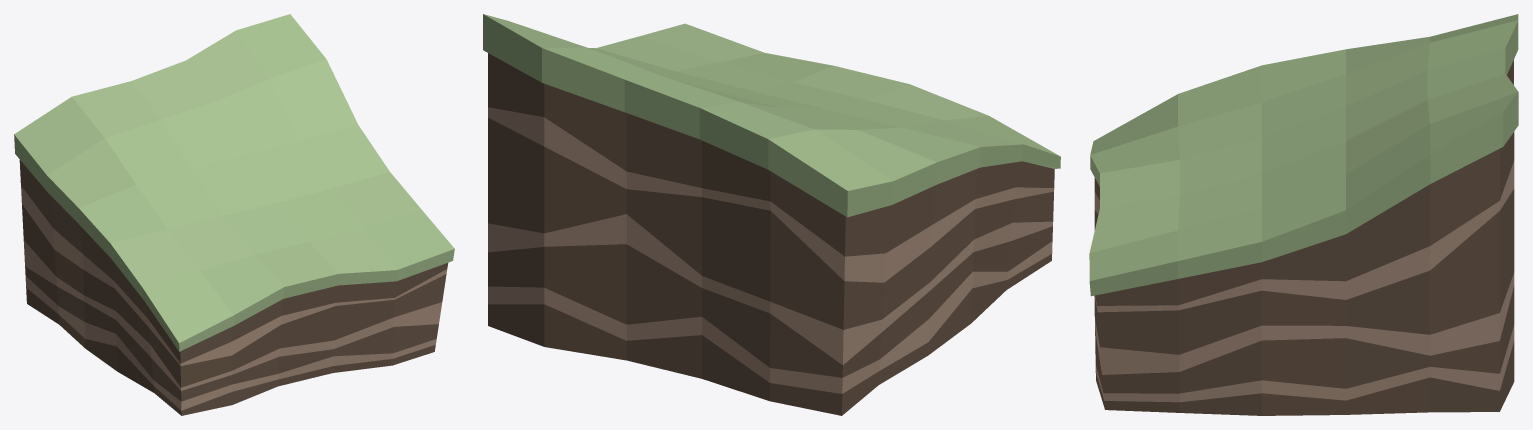
File: Isl_1_Base.fbx
3 renders of one model, left to right at view 1: azimuth 30°, elevation 25°; view 2: azimuth 150°, elevation 25°; view 3: azimuth 270°, elevation 25°, orthographic. The views are drawn at different scales.
Visible parts, largest first — view 1: Isl_1_Base; view 2: Isl_1_Base; view 3: Isl_1_Base.
Boxes of the visible parts, box(x1,y1,x2,y2) form: Isl_1_Base: box(14, 14, 454, 415); Isl_1_Base: box(483, 14, 1060, 415); Isl_1_Base: box(1089, 14, 1518, 415).
Bounding box in the file's own units: 2040 × 2040 × 1583.
1 material, 1 textured.
